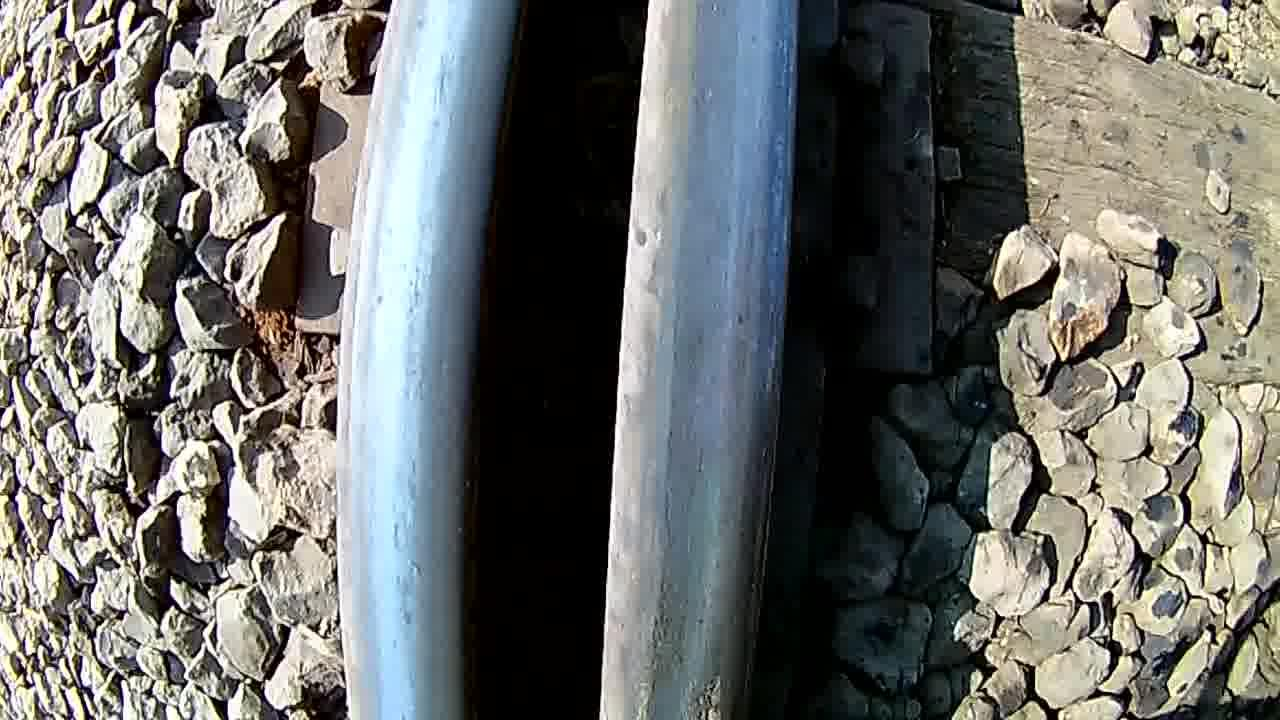crack: (607, 264, 784, 720)
